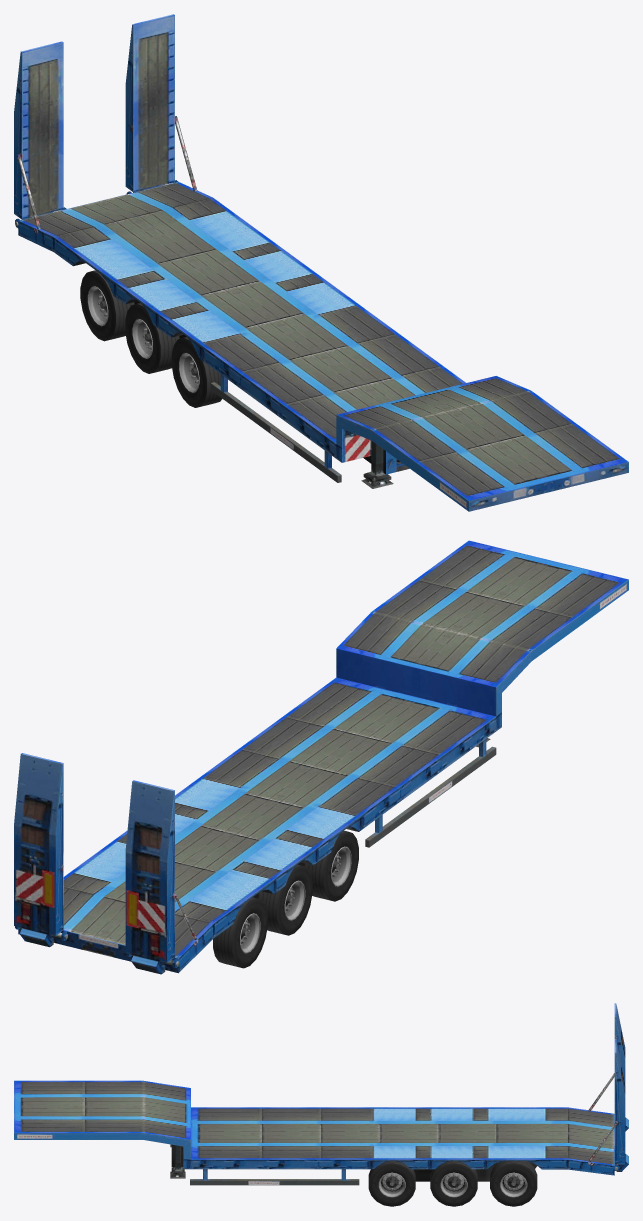
File: Overweightnew.fbx
3 renders of one model, top to bottom at view 1: azimuth 30°, elevation 25°; view 2: azimuth 150°, elevation 25°; view 3: azimuth 270°, elevation 25°, orthographic. The views are drawn at different scales.
Parts seen in each view (by area): view 1: Chassis, WheelRR, WheelRM, WheelRF; view 2: Chassis, WheelRR, WheelRM, WheelRF; view 3: Chassis, WheelLR, WheelLM, WheelLF.
Part boxes in pixels (left/top/right/bottom): Chassis: left=14, top=14, right=628, bottom=511; WheelRR: left=80, top=270, right=134, bottom=341; WheelRM: left=125, top=303, right=179, bottom=373; WheelRF: left=171, top=337, right=221, bottom=407; Chassis: left=14, top=540, right=628, bottom=974; WheelRR: left=213, top=897, right=267, bottom=968; WheelRM: left=258, top=864, right=312, bottom=935; WheelRF: left=304, top=830, right=358, bottom=901; Chassis: left=14, top=1003, right=628, bottom=1185; WheelLR: left=490, top=1161, right=537, bottom=1206; WheelLM: left=430, top=1161, right=477, bottom=1206; WheelLF: left=368, top=1161, right=415, bottom=1206.
Bounding box in the file's own units: 263 × 359 × 1299.
